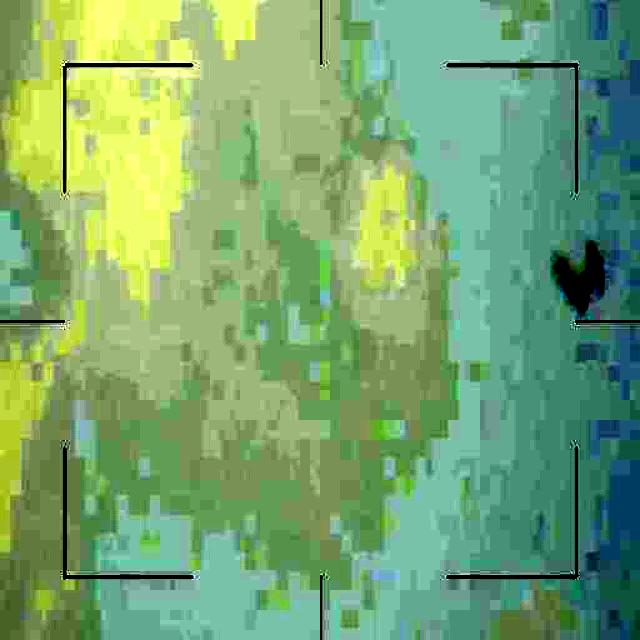bird: (551, 245, 608, 315)
